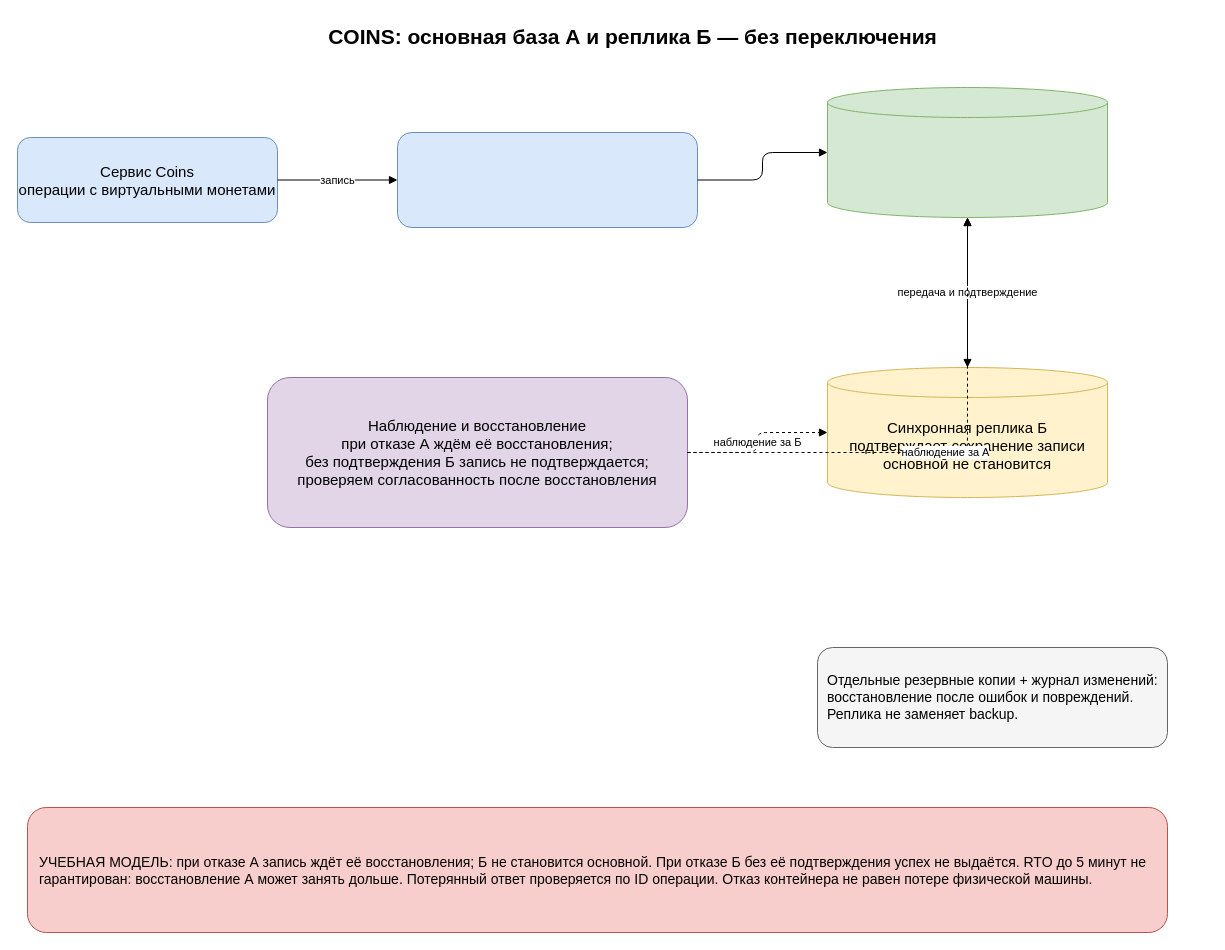
The diagram is 1225 pixels wide and 950 high, and some of its shapes have lost their labels. Here are the shapes that lost their labels. From the top down, the centre of each, then its label:
At (967,152): "Основная PostgreSQL принимает запись ждёт синхронное подтверждение".
At (547,180): "Подключение к основной базе А при её отказе запись недоступна".
